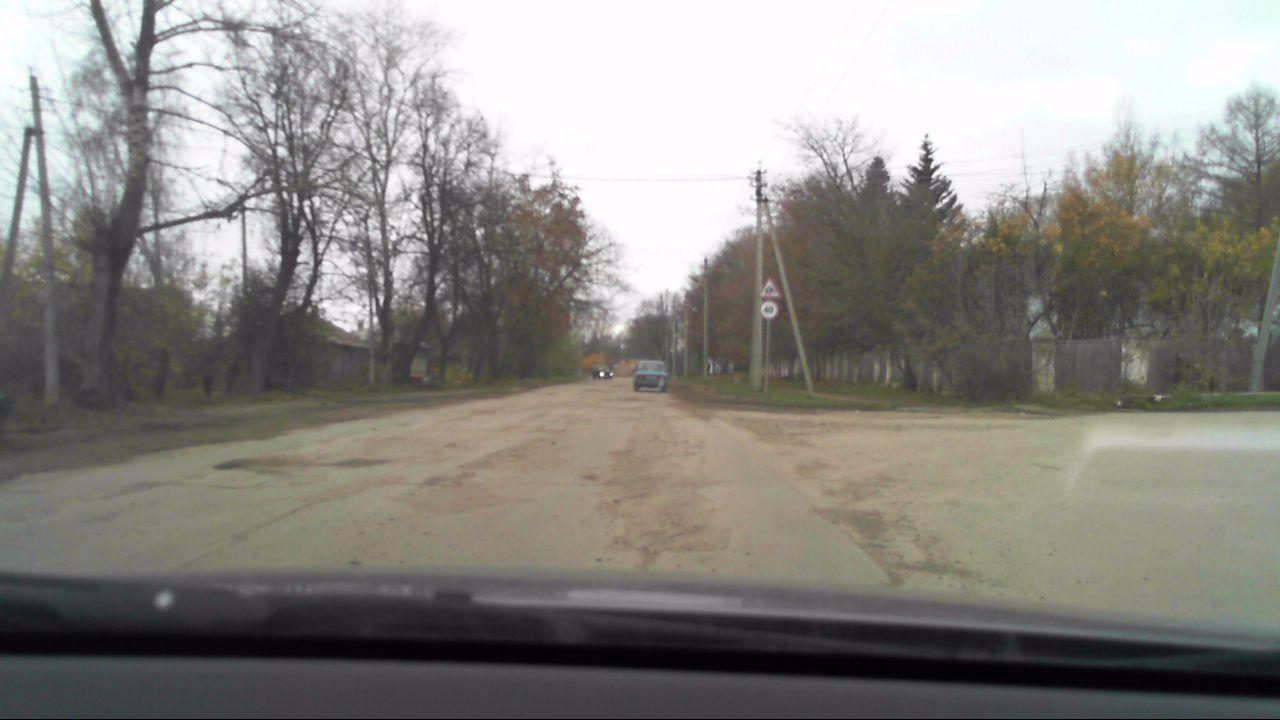1_23: (759, 279, 780, 299)
3_24: (759, 300, 779, 319)
